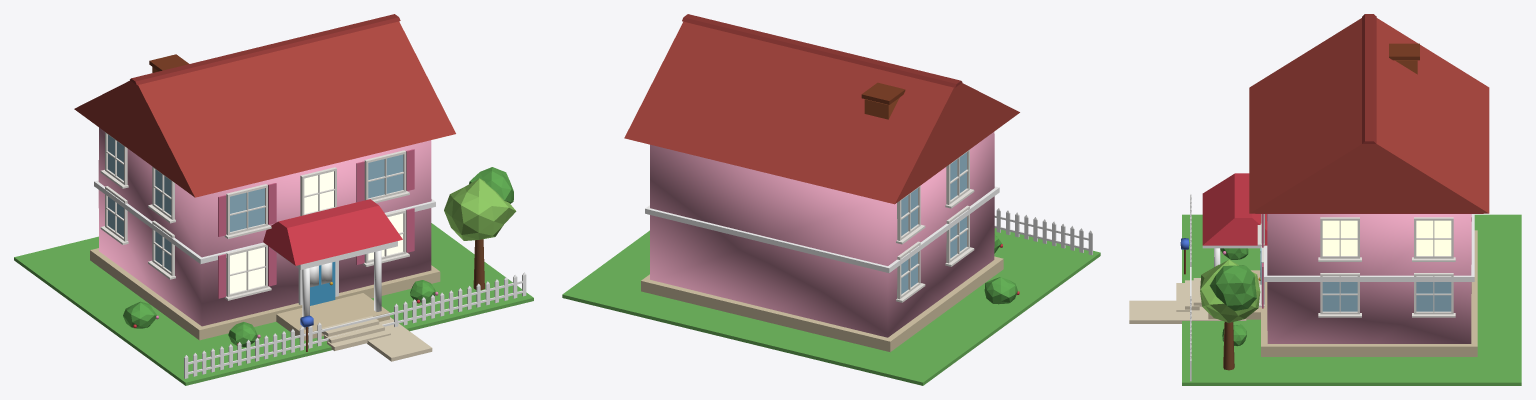
File: little_house.glb
The picture shows the model from 3 angles, left to right: view 1: azimuth 30°, elevation 25°; view 2: azimuth 150°, elevation 25°; view 3: azimuth 270°, elevation 25°; orthographic projection. The views are drawn at different scales.
Parts seen in each view (by area): view 1: root; view 2: root; view 3: root.
Boxes of the visible parts, x1,y1,x2,y2 form: root: (14,14,533,385); root: (562,14,1100,385); root: (1129,14,1521,385).
Size of the model in its own units: 13.71 by 8.45 by 13.4.
